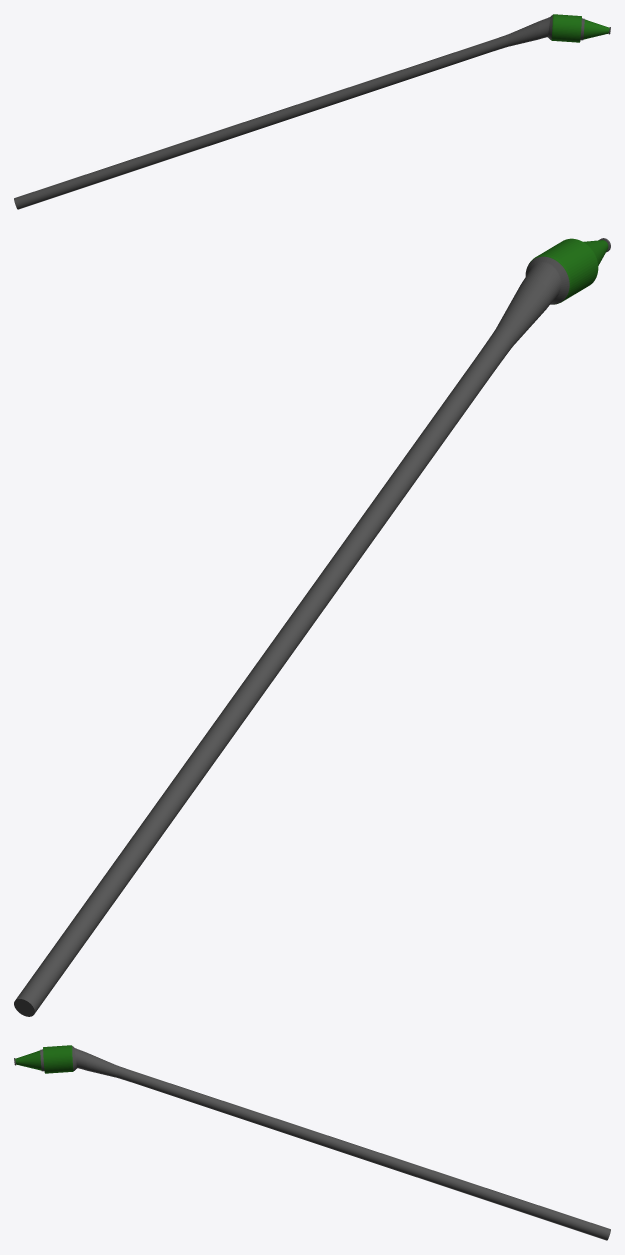
File: šprica.fbx
3 renders of one model, top to bottom at view 1: azimuth 90°, elevation 25°; view 2: azimuth 150°, elevation 25°; view 3: azimuth 270°, elevation 25°, orthographic. The views are drawn at different scales.
Visible parts, largest first — view 1: Prskalica; view 2: Prskalica; view 3: Prskalica.
Part boxes in pixels (x1,y1,x2,y2): Prskalica: (14,14,610,209); Prskalica: (14,238,610,1016); Prskalica: (14,1045,610,1240).
Bounding box in the file's own units: 101 × 812 × 2268.
